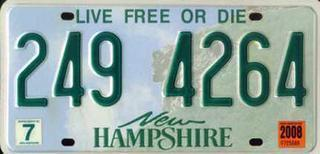placa de veiculo: (6, 0, 309, 152)
